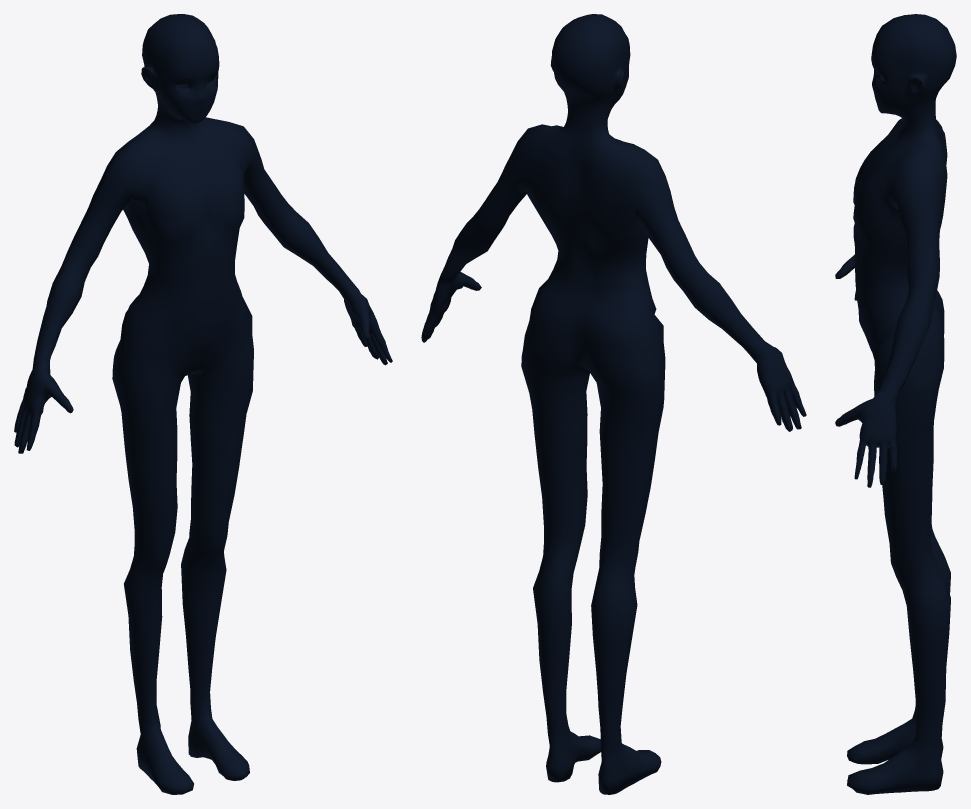
The model's file is geo_chara_02_LP.fbx.
3 views of the same model, side by side, from view 1: azimuth 30°, elevation 25°; view 2: azimuth 150°, elevation 25°; view 3: azimuth 270°, elevation 25° (orthographic).
Parts seen in each view (by area): view 1: Solar_chara_v3; view 2: Solar_chara_v3; view 3: Solar_chara_v3.
Boxes of the visible parts, x1,y1,x2,y2 form: Solar_chara_v3: (14, 14, 392, 794); Solar_chara_v3: (421, 14, 806, 794); Solar_chara_v3: (835, 14, 956, 794).
Bounding box in the file's own units: 89.57 × 173 × 25.23.
